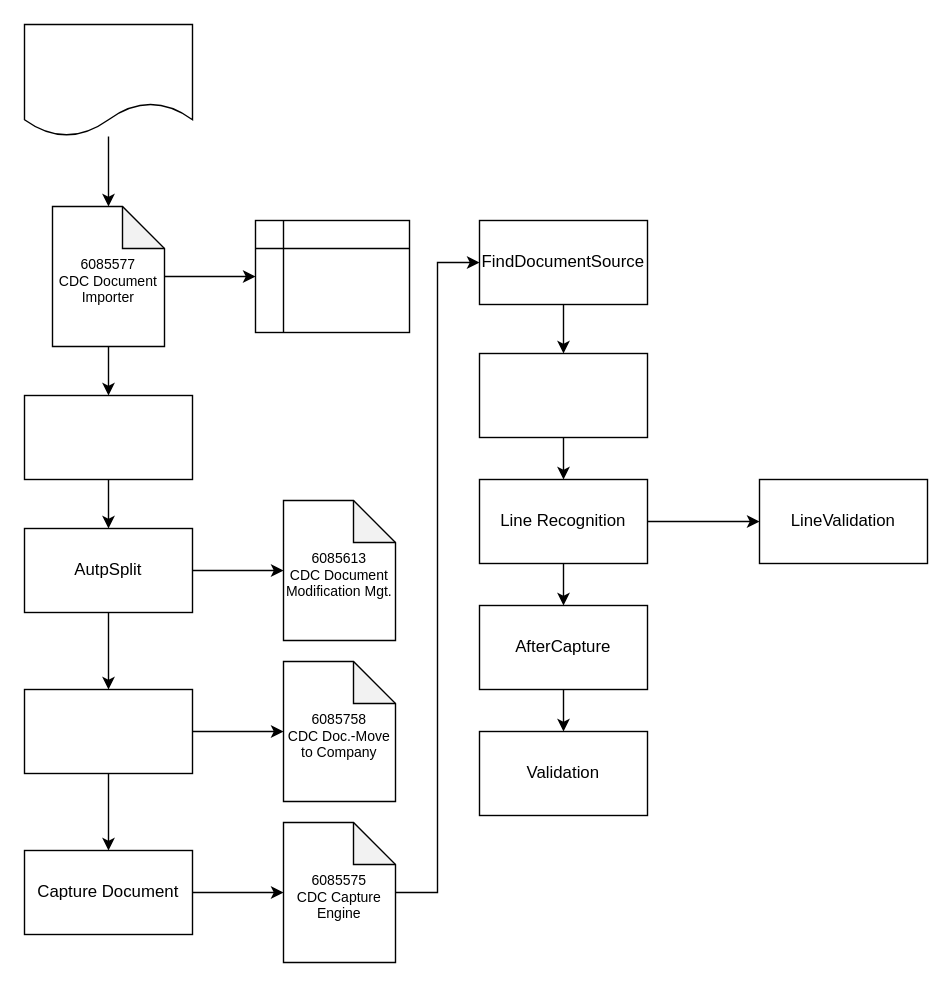
Image size: 952x987. Some labels were removed from this diagram. The shapes that lost their labels are listed below. From the top down, each one's centre as x and y in pixels, then its label:
the point at 107,79: PDF/XML
the point at 332,275: Document, Page Word
the point at 563,395: CaptureValues
the point at 107,436: ProcessDocument
the point at 107,731: MoveToCompany
